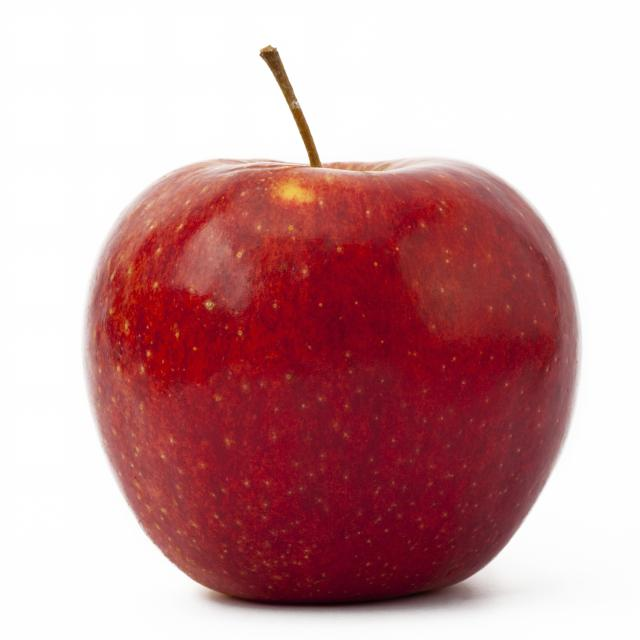Apple: (76, 45, 586, 606)
